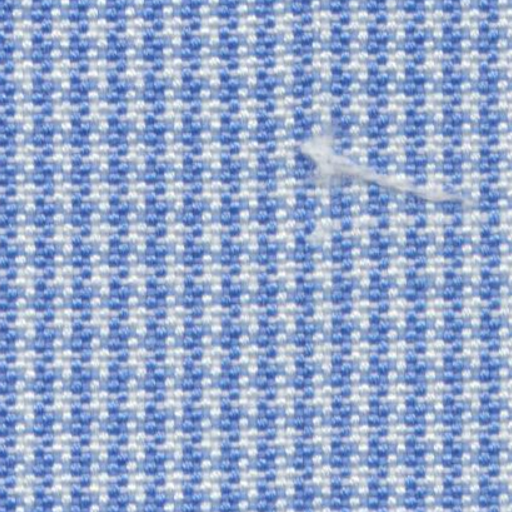DuanSha: (288, 110, 468, 219)
